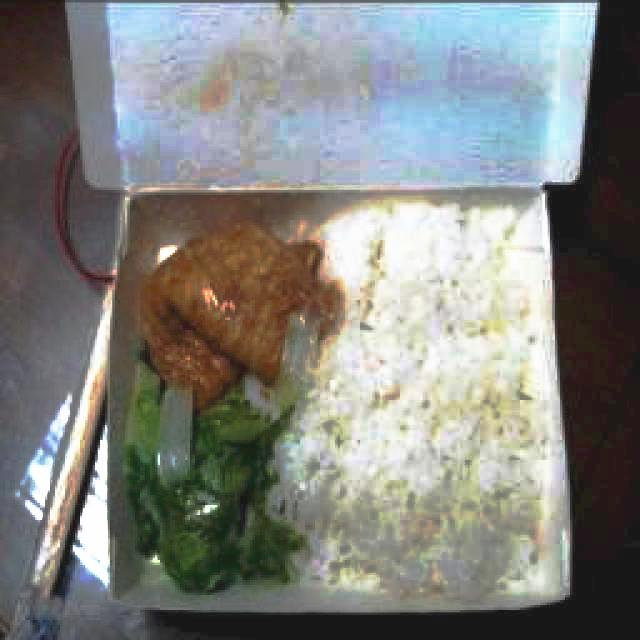rice: (320, 204, 542, 591)
water_spinach: (131, 388, 291, 587)
